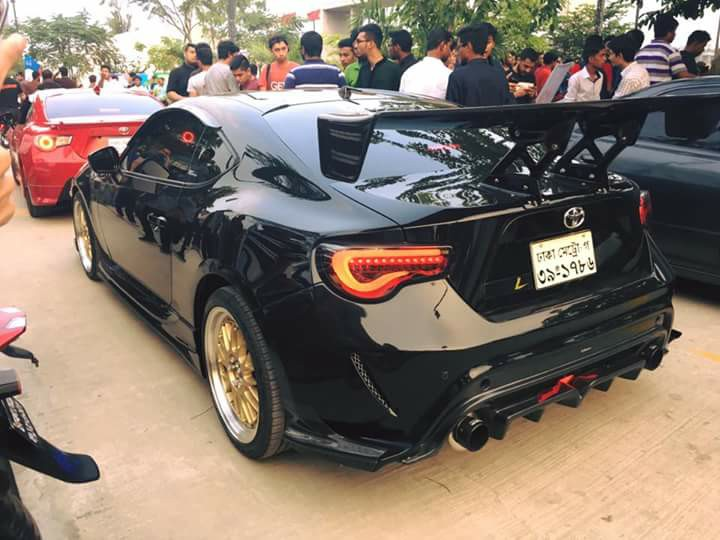registration_plate: (529, 229, 597, 290)
